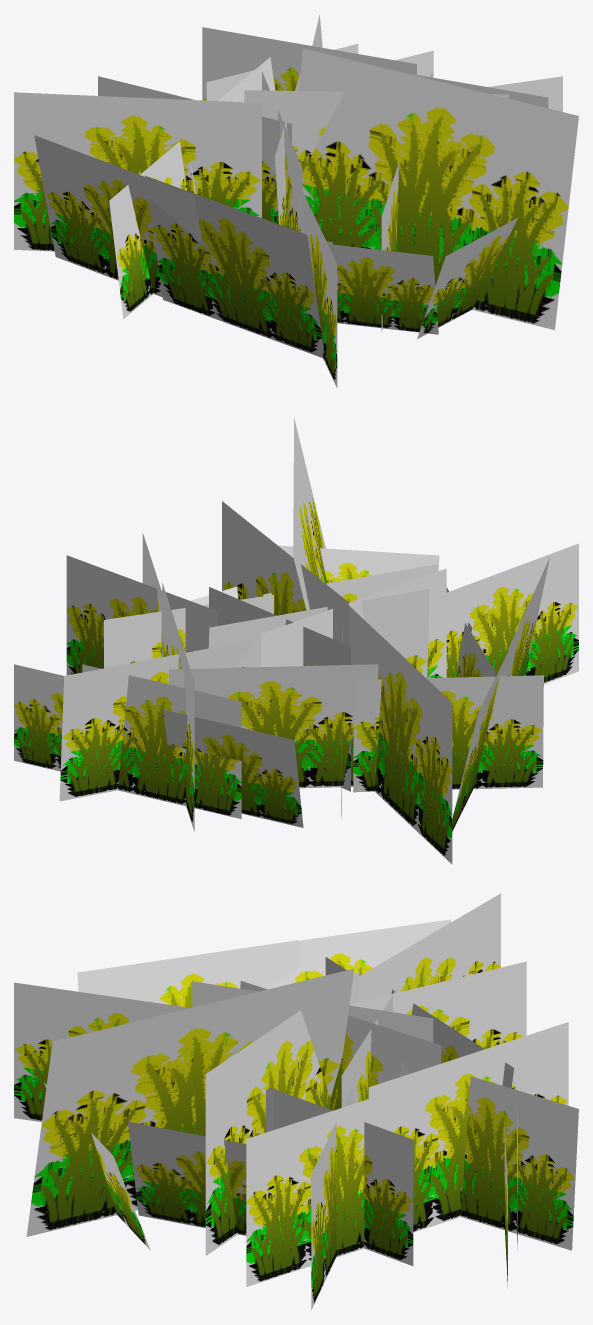
The model's file is high_grass_11.gltf.
3 renders of one model, top to bottom at view 1: azimuth 30°, elevation 25°; view 2: azimuth 150°, elevation 25°; view 3: azimuth 270°, elevation 25°, orthographic. The views are drawn at different scales.
Parts seen in each view (by area): view 1: default; view 2: default; view 3: default.
Boxes of the visible parts, bbox=[...] form: default: bbox=[14, 15, 578, 387]; default: bbox=[14, 418, 578, 864]; default: bbox=[14, 893, 578, 1309].
Size of the model in its own units: 1.91 by 0.7728 by 1.84.
Materials: 1 (1 with a texture image).
